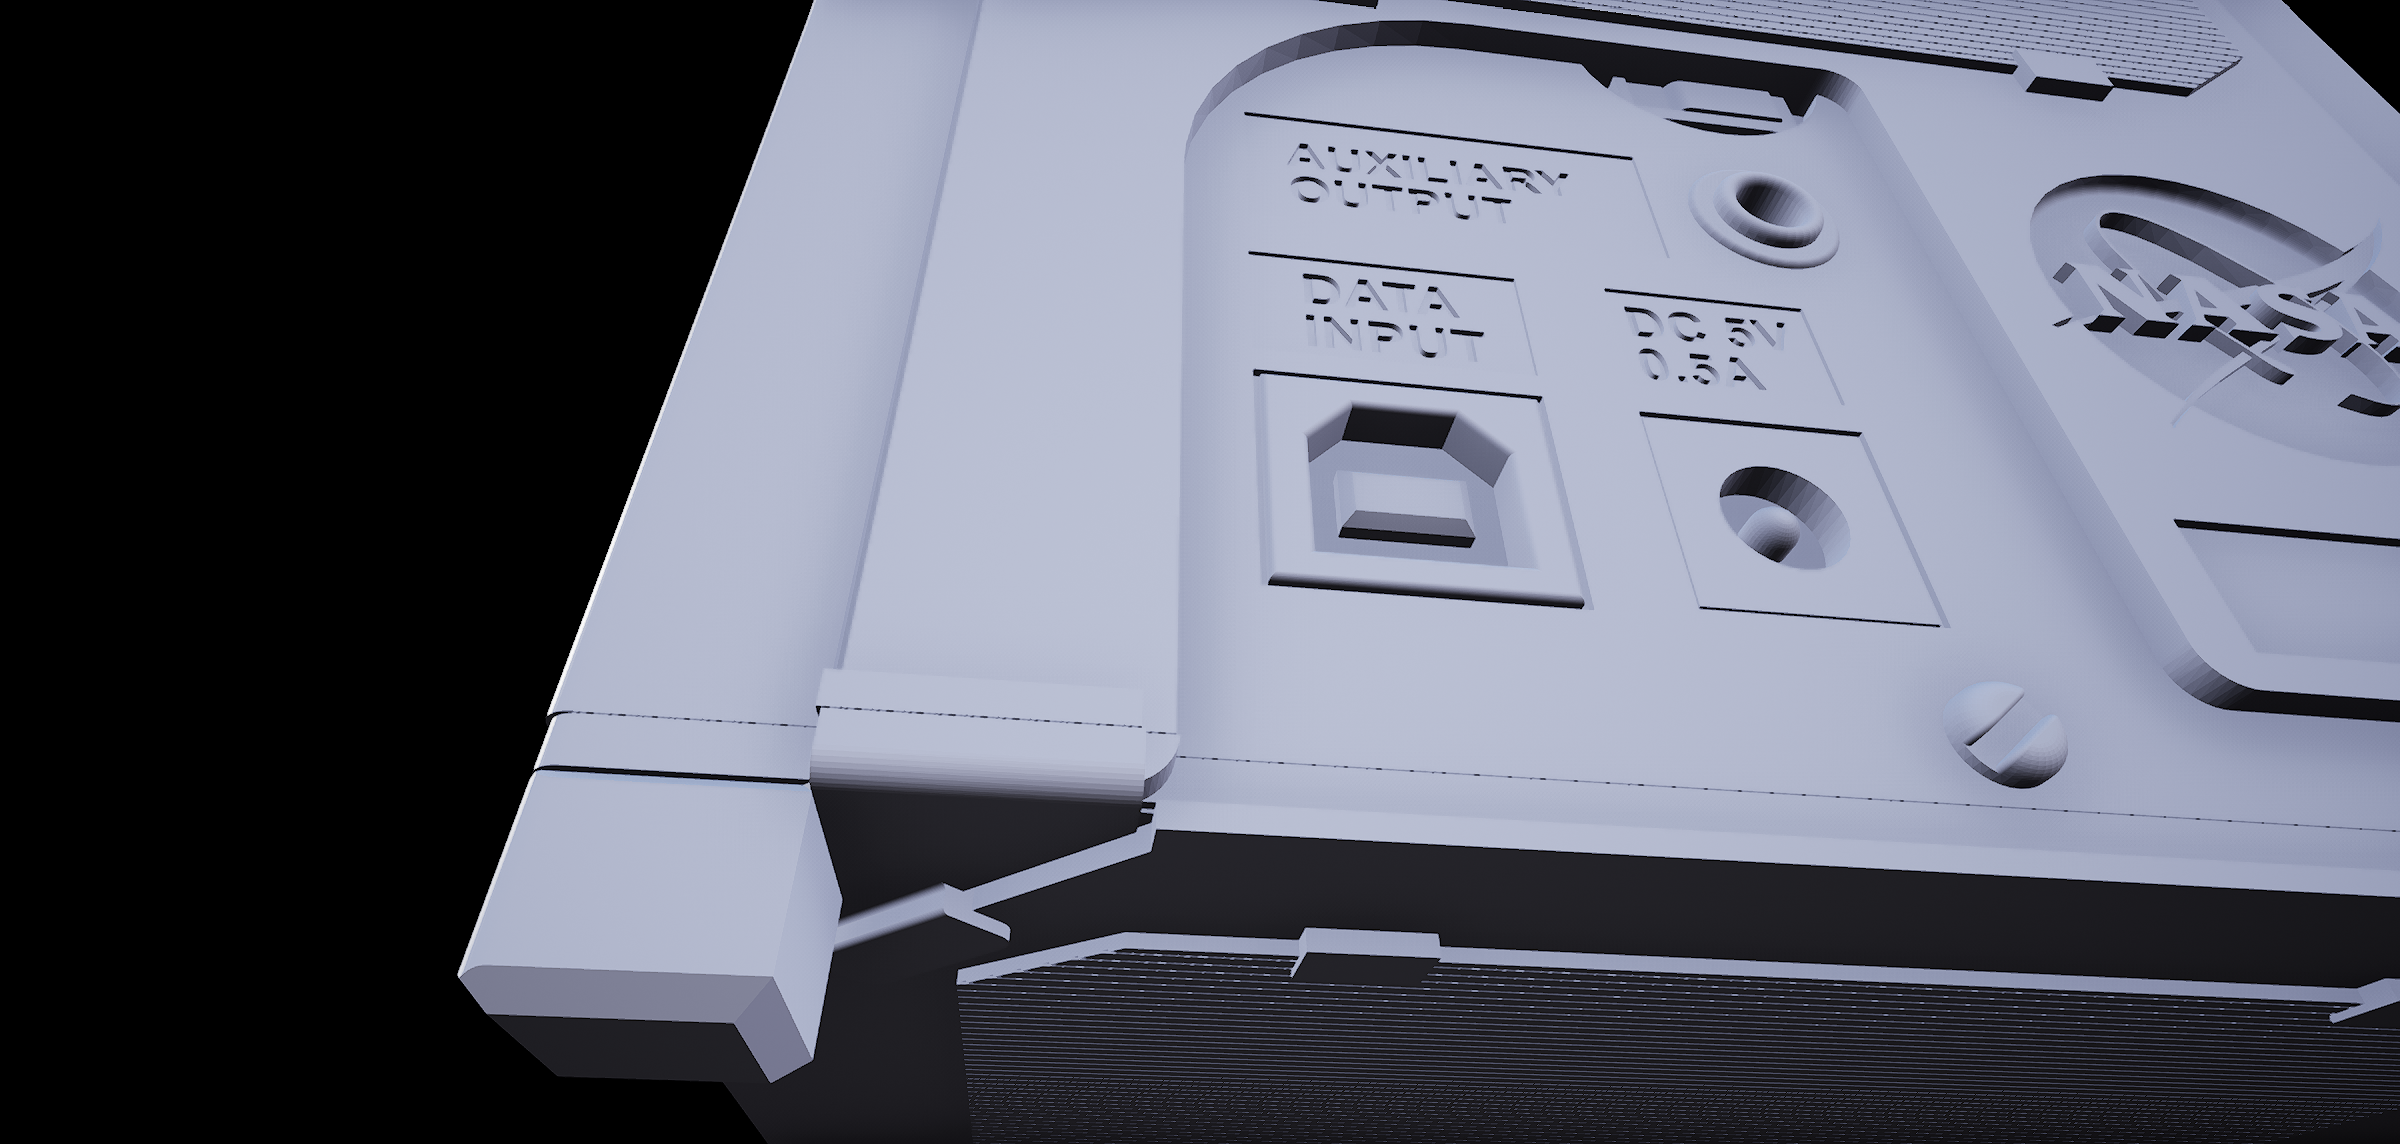aux: (1681, 152, 1854, 280)
dc: (1701, 449, 1863, 596)
usb: (1309, 378, 1554, 590)
